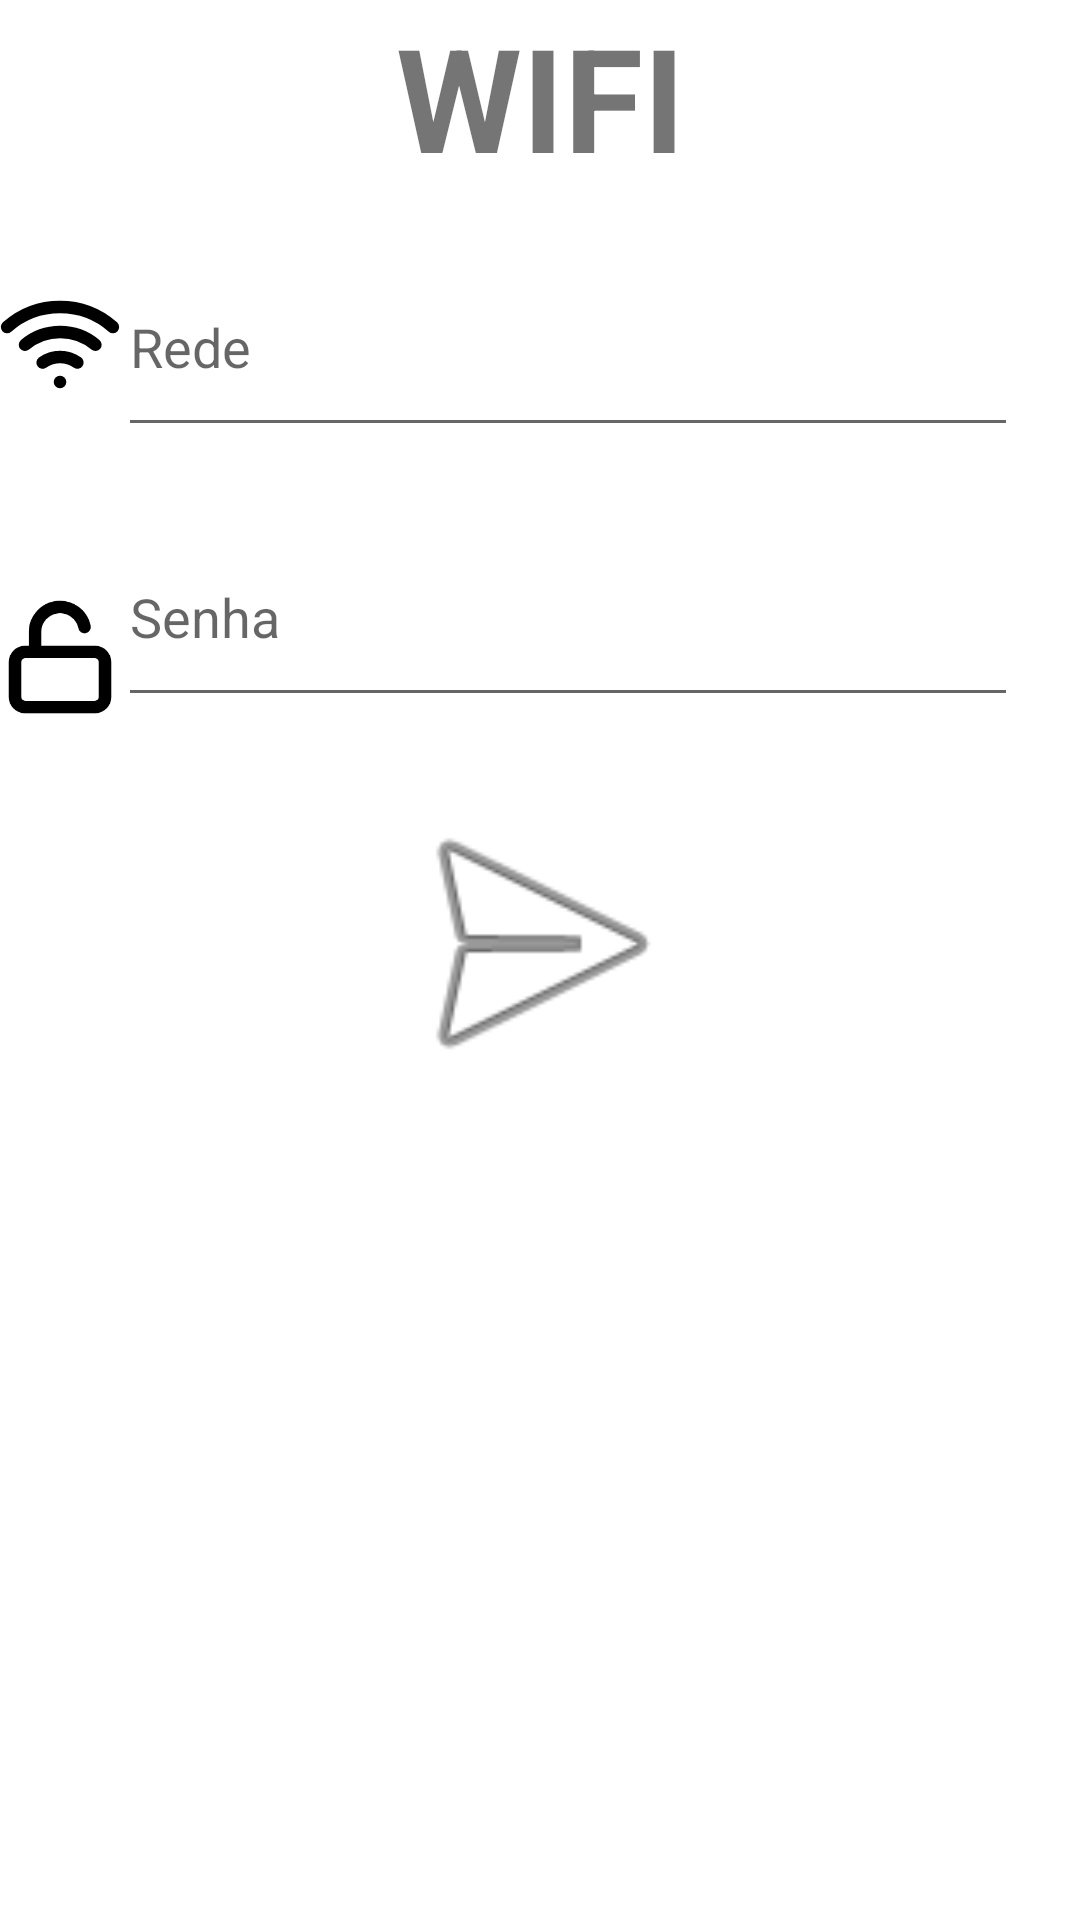

Icon bounding boxes for this 1080px×1920px phone screenshot, format (x1, y1, x2, y2):
send: (437, 839, 649, 1048)
unlock: (8, 600, 112, 714)
